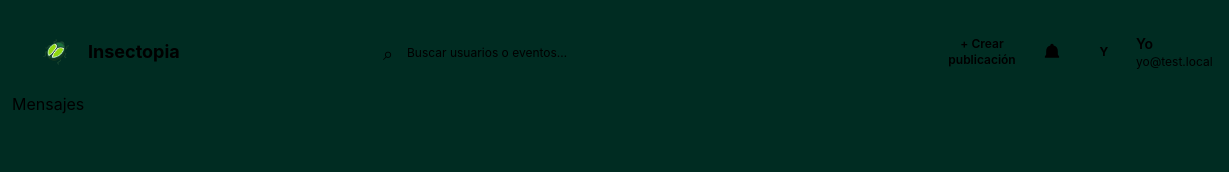
Test: búsqueda global de la navbar › está habilitada fuera de Inicio y abre perfiles de usuario y fichas de evento
The width and height of the screenshot is (1229, 172).
Type "elena" into the search field named "Buscar usuarios o títulos de eventos". click: {"x": 652, "y": 52}
box: [367,32,937,72]
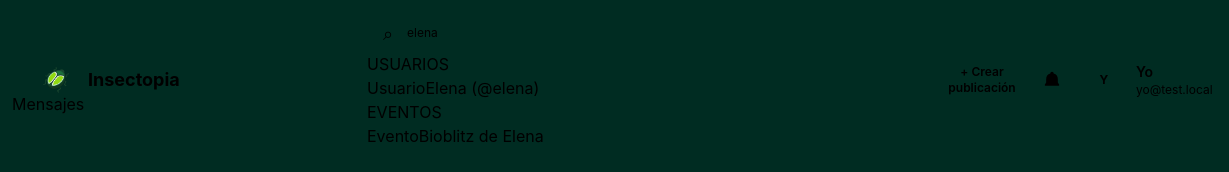
expect the link with aria-label "Ver evento Bioblitz de Elena" is shown: met, box [367,126,544,146]
Click the link with aria-label "Ver perfil de Elena". click: {"x": 396, "y": 88}
box: [367,78,539,98]
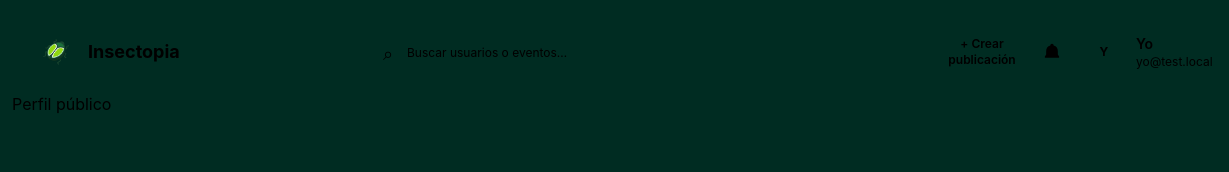
expect the text "Perfil público" is shown: met, box [12,94,112,114]
